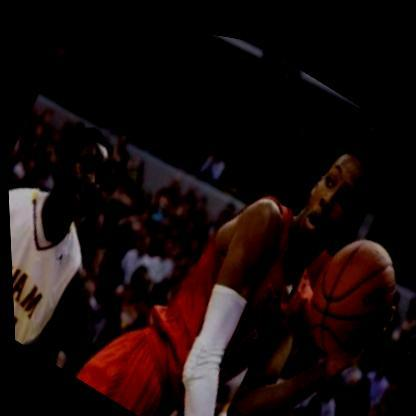basketball: (278, 201, 416, 375)
